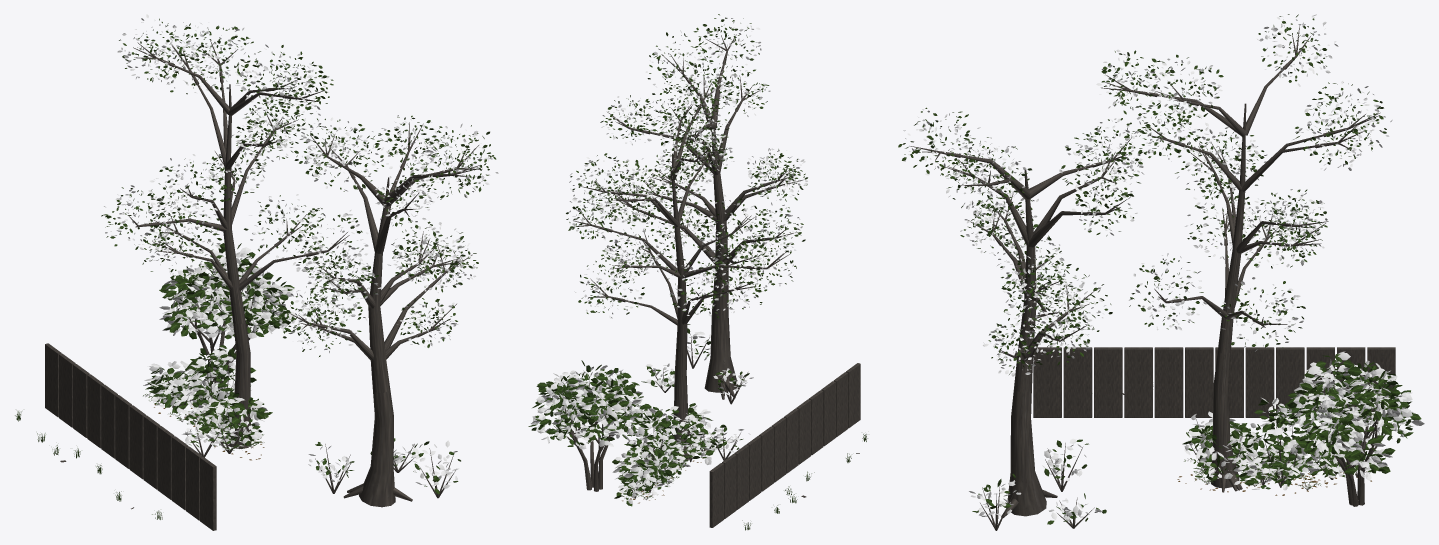
File: SM_Env_Tile_p2_p1.fbx
3 views of the same model, side by side, from view 1: azimuth 30°, elevation 25°; view 2: azimuth 150°, elevation 25°; view 3: azimuth 270°, elevation 25° (orthographic). The views are drawn at different scales.
Parts seen in each view (by area): view 1: SM_Env_Tile_p2_p1; view 2: SM_Env_Tile_p2_p1; view 3: SM_Env_Tile_p2_p1.
Part boxes in pixels (box(x1,y1,x2,y2)): SM_Env_Tile_p2_p1: box(15, 14, 498, 530); SM_Env_Tile_p2_p1: box(528, 14, 867, 530); SM_Env_Tile_p2_p1: box(898, 14, 1424, 530).
Size of what is drawn, in the model's own units: 1316 by 1735 by 1611.
7 materials, 3 textured.
